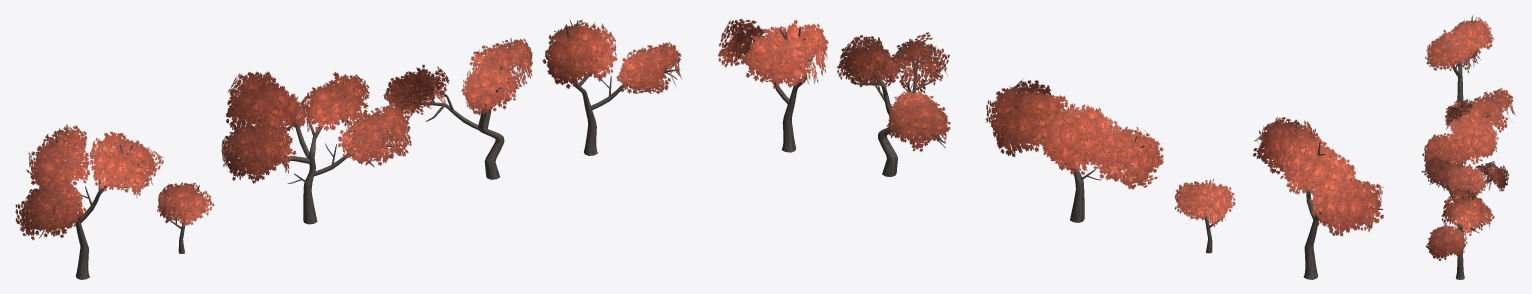
Rendered from S1Tree1.glb.
The picture shows the model from 3 angles, left to right: view 1: azimuth 30°, elevation 25°; view 2: azimuth 150°, elevation 25°; view 3: azimuth 270°, elevation 25°; orthographic projection. The views are drawn at different scales.
Visible parts, largest first — view 1: MapleTree_3, MapleTree_5, MapleTree_2, MapleTree_1, MapleTree_4; view 2: MapleTree_3, MapleTree_5, MapleTree_2, MapleTree_1, MapleTree_4; view 3: MapleTree_3, MapleTree_1, MapleTree_5, MapleTree_2, MapleTree_4.
Part boxes in pixels (x1,y1,x2,y2): MapleTree_3: (221,71,411,224); MapleTree_5: (15,124,163,279); MapleTree_2: (383,38,532,179); MapleTree_1: (542,19,681,155); MapleTree_4: (157,182,214,253); MapleTree_3: (985,79,1163,222); MapleTree_5: (1253,117,1384,279); MapleTree_2: (837,32,950,176); MapleTree_1: (718,19,828,152); MapleTree_4: (1174,179,1235,253); MapleTree_3: (1422,87,1515,175); MapleTree_1: (1426,188,1494,279); MapleTree_5: (1425,15,1494,105); MapleTree_2: (1421,157,1509,246); MapleTree_4: (1445,99,1469,131).
Bounding box in the file's own units: 34.21 × 7.29 × 6.68.
Materials: 2 (2 with a texture image).
